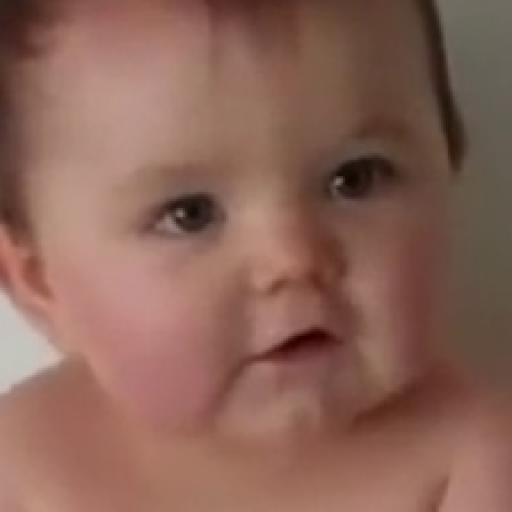Autism: (30, 14, 485, 500)
